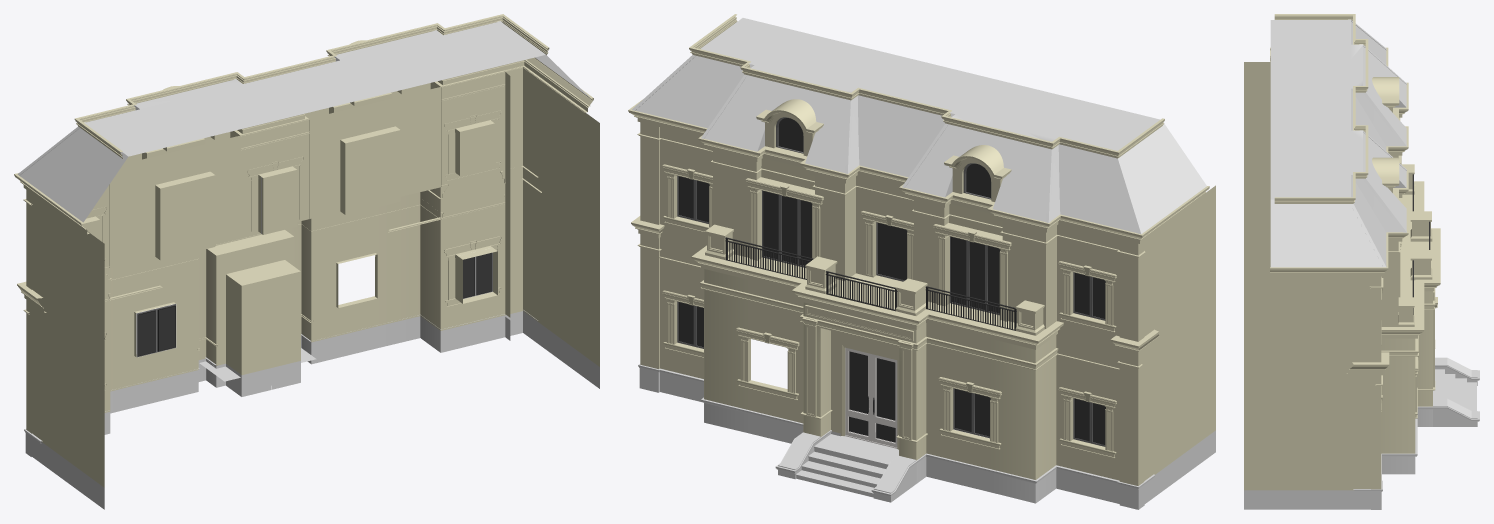
File: classic_house.fbx
3 views of the same model, side by side, from view 1: azimuth 30°, elevation 25°; view 2: azimuth 150°, elevation 25°; view 3: azimuth 270°, elevation 25° (orthographic). The views are drawn at different scales.
Parts seen in each view (by area): view 1: Main, Cube.002, Plane.007, Plane.017, Plane.009, Plane.008; view 2: Main, Cube.002, Plane.007, Plane.008, Plane.011, Plane.009, Plane.016, Plane.013, Plane.017, Plane.004, Plane.012, Plane.010 (+5 smaller); view 3: Main, Cube.002, Plane.007, Plane.008, Plane.011, Plane.017, Plane.009.
Part boxes in pixels (<box>): Main: <box>25,66,599,509</box>; Cube.002: <box>17,21,590,222</box>; Plane.007: <box>14,40,593,267</box>; Plane.017: <box>74,14,549,158</box>; Plane.009: <box>23,84,504,350</box>; Plane.008: <box>17,166,541,443</box>; Main: <box>639,122,1215,509</box>; Cube.002: <box>632,18,1206,234</box>; Plane.007: <box>628,99,1209,328</box>; Plane.008: <box>631,216,1159,496</box>; Plane.011: <box>778,432,916,502</box>; Plane.009: <box>637,132,1145,442</box>; Plane.016: <box>845,347,897,448</box>; Plane.013: <box>745,177,1011,321</box>; Plane.017: <box>689,14,1164,158</box>; Plane.004: <box>736,327,1001,449</box>; Plane.012: <box>662,164,1116,332</box>; Plane.010: <box>662,290,1116,458</box>; Main: <box>1244,62,1434,509</box>; Cube.002: <box>1270,19,1406,267</box>; Plane.007: <box>1270,47,1408,326</box>; Plane.008: <box>1347,181,1479,491</box>; Plane.011: <box>1433,357,1477,426</box>; Plane.017: <box>1274,14,1368,203</box>; Plane.009: <box>1370,117,1437,390</box>.
Bounding box in the file's own units: 1945 × 1221 × 879.
